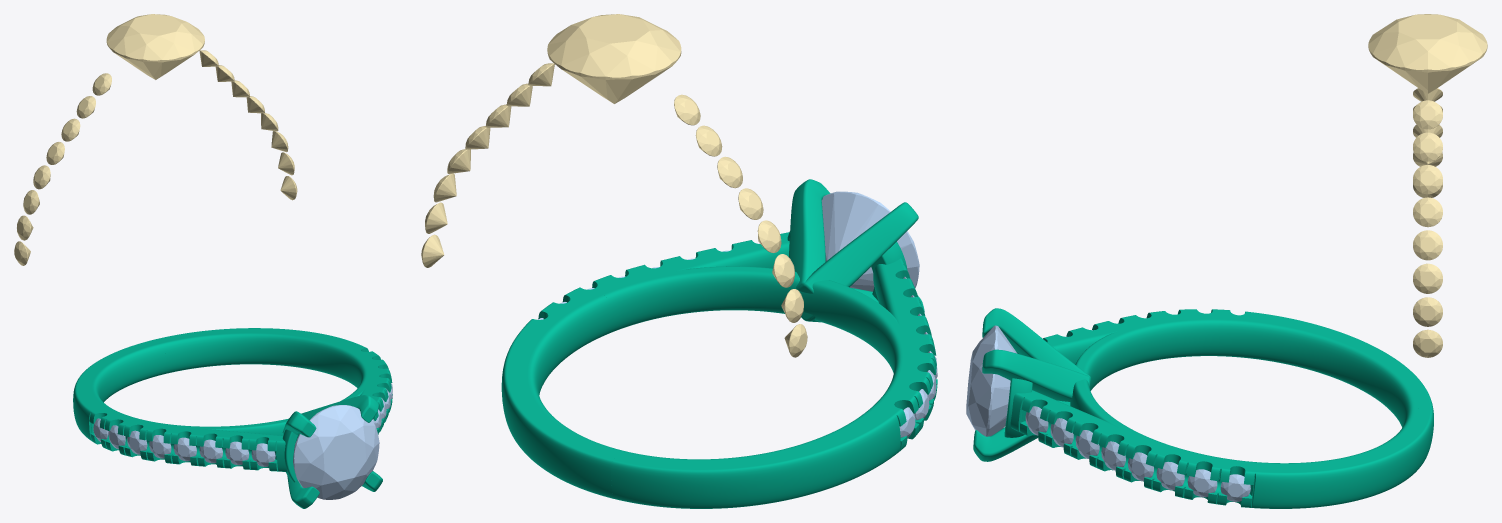
3 views of the same model, side by side, from view 1: azimuth 30°, elevation 25°; view 2: azimuth 150°, elevation 25°; view 3: azimuth 270°, elevation 25° (orthographic). The views are drawn at different scales.
Parts seen in each view (by area): view 1: JTC 6508(base).3dm, Diamond_Round (×2); view 2: JTC 6508(base).3dm, Diamond_Round (×8); view 3: JTC 6508(base).3dm, Diamond_Round (×12).
Part boxes in pixels (left/top/right/bottom): JTC 6508(base).3dm: left=73, top=328, right=392, bottom=508; Diamond_Round (×2): left=106, top=14, right=379, bottom=499; JTC 6508(base).3dm: left=501, top=179, right=937, bottom=508; Diamond_Round (×8): left=547, top=14, right=919, bottom=291; JTC 6508(base).3dm: left=973, top=308, right=1433, bottom=508; Diamond_Round (×12): left=966, top=14, right=1487, bottom=501.
Bounding box in the file's own units: 2.5 × 2.97 × 3.36.
